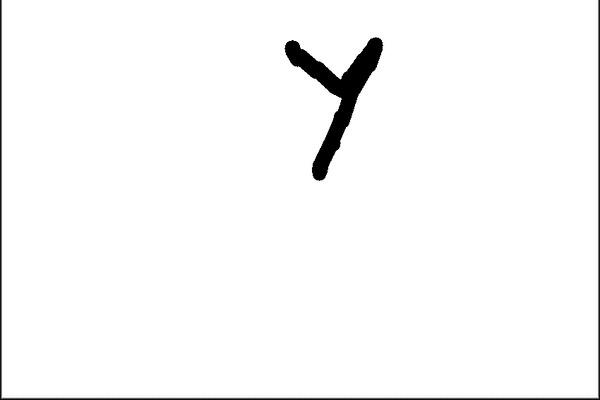Y: (275, 24, 390, 186)
